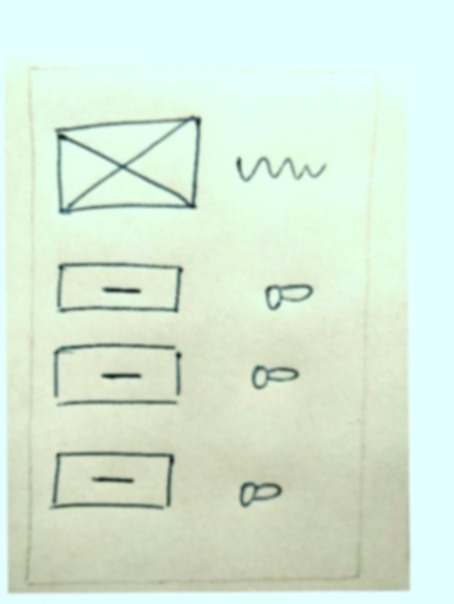button: (46, 336, 187, 416), (45, 442, 179, 519), (47, 255, 188, 326)
image: (50, 113, 205, 222)
switch: (256, 270, 320, 324), (235, 469, 291, 520), (247, 353, 302, 402)
text: (229, 143, 329, 196)
